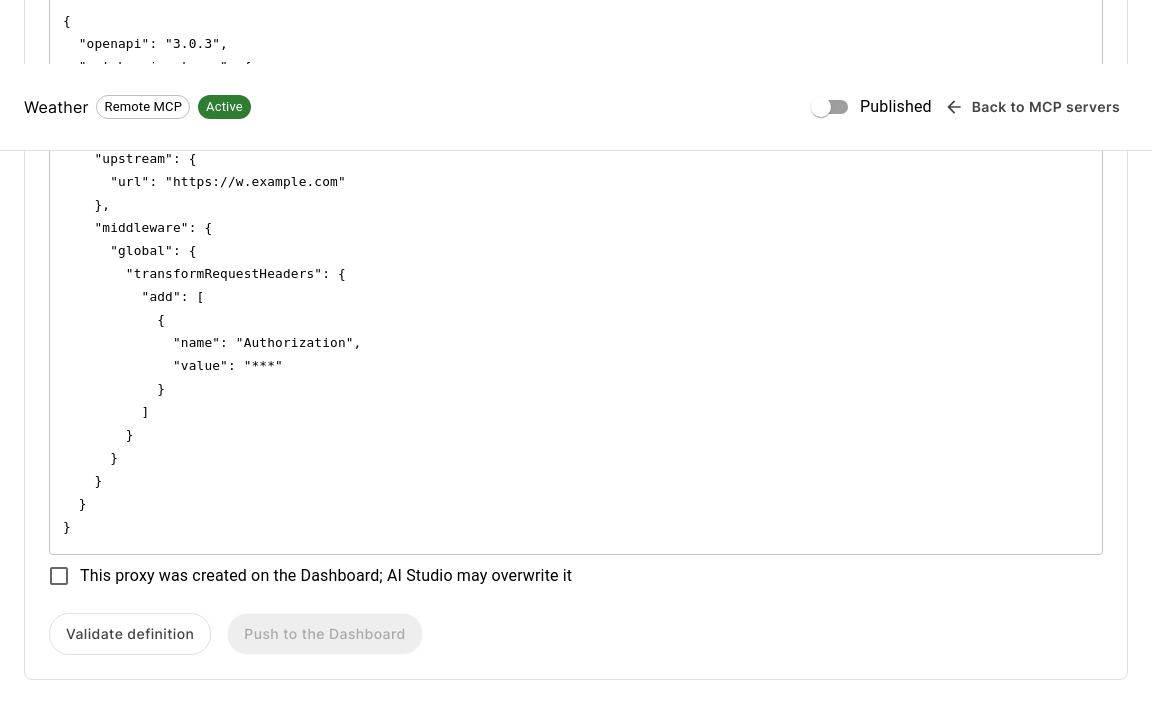
MCPServerDetail registration controls › requires the confirmation for Dashboard-origin proxies and hides delete
(page scrolled)
Check: the button with test id "push-definition" is disabled, box [227, 613, 423, 656]
Click the checkbox with test id "confirm-origin": (310,576) [47, 564, 572, 588]
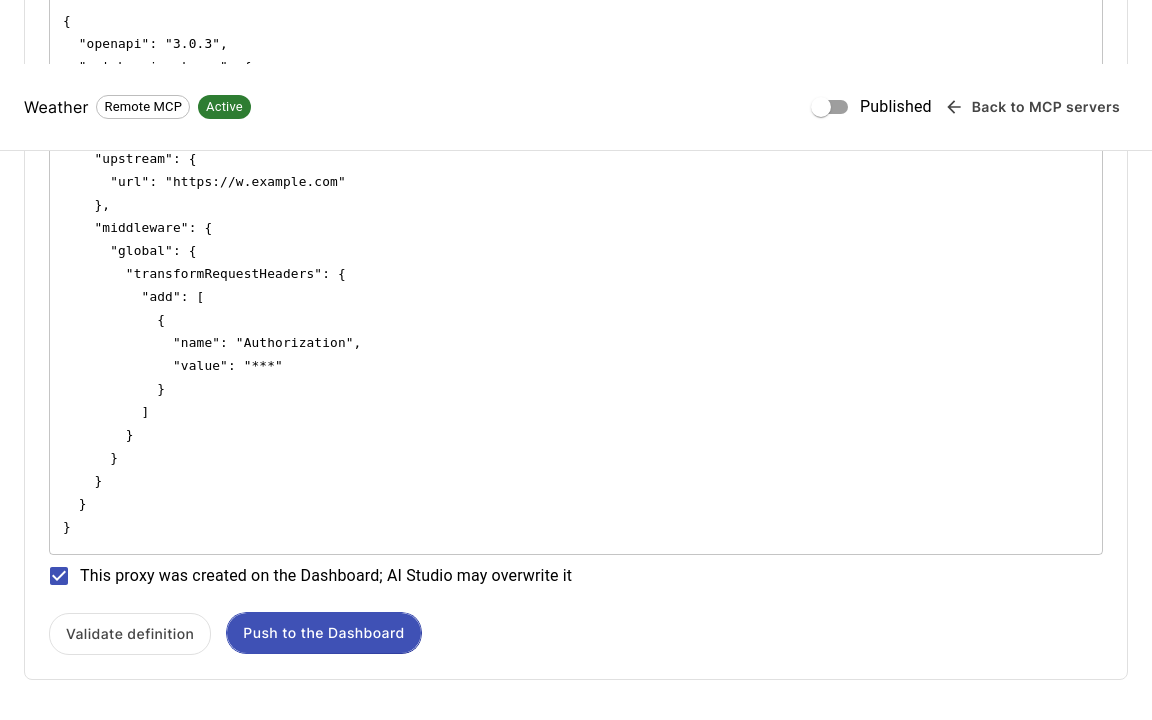
Check: the button with test id "push-definition" is enabled, box [227, 613, 421, 654]
